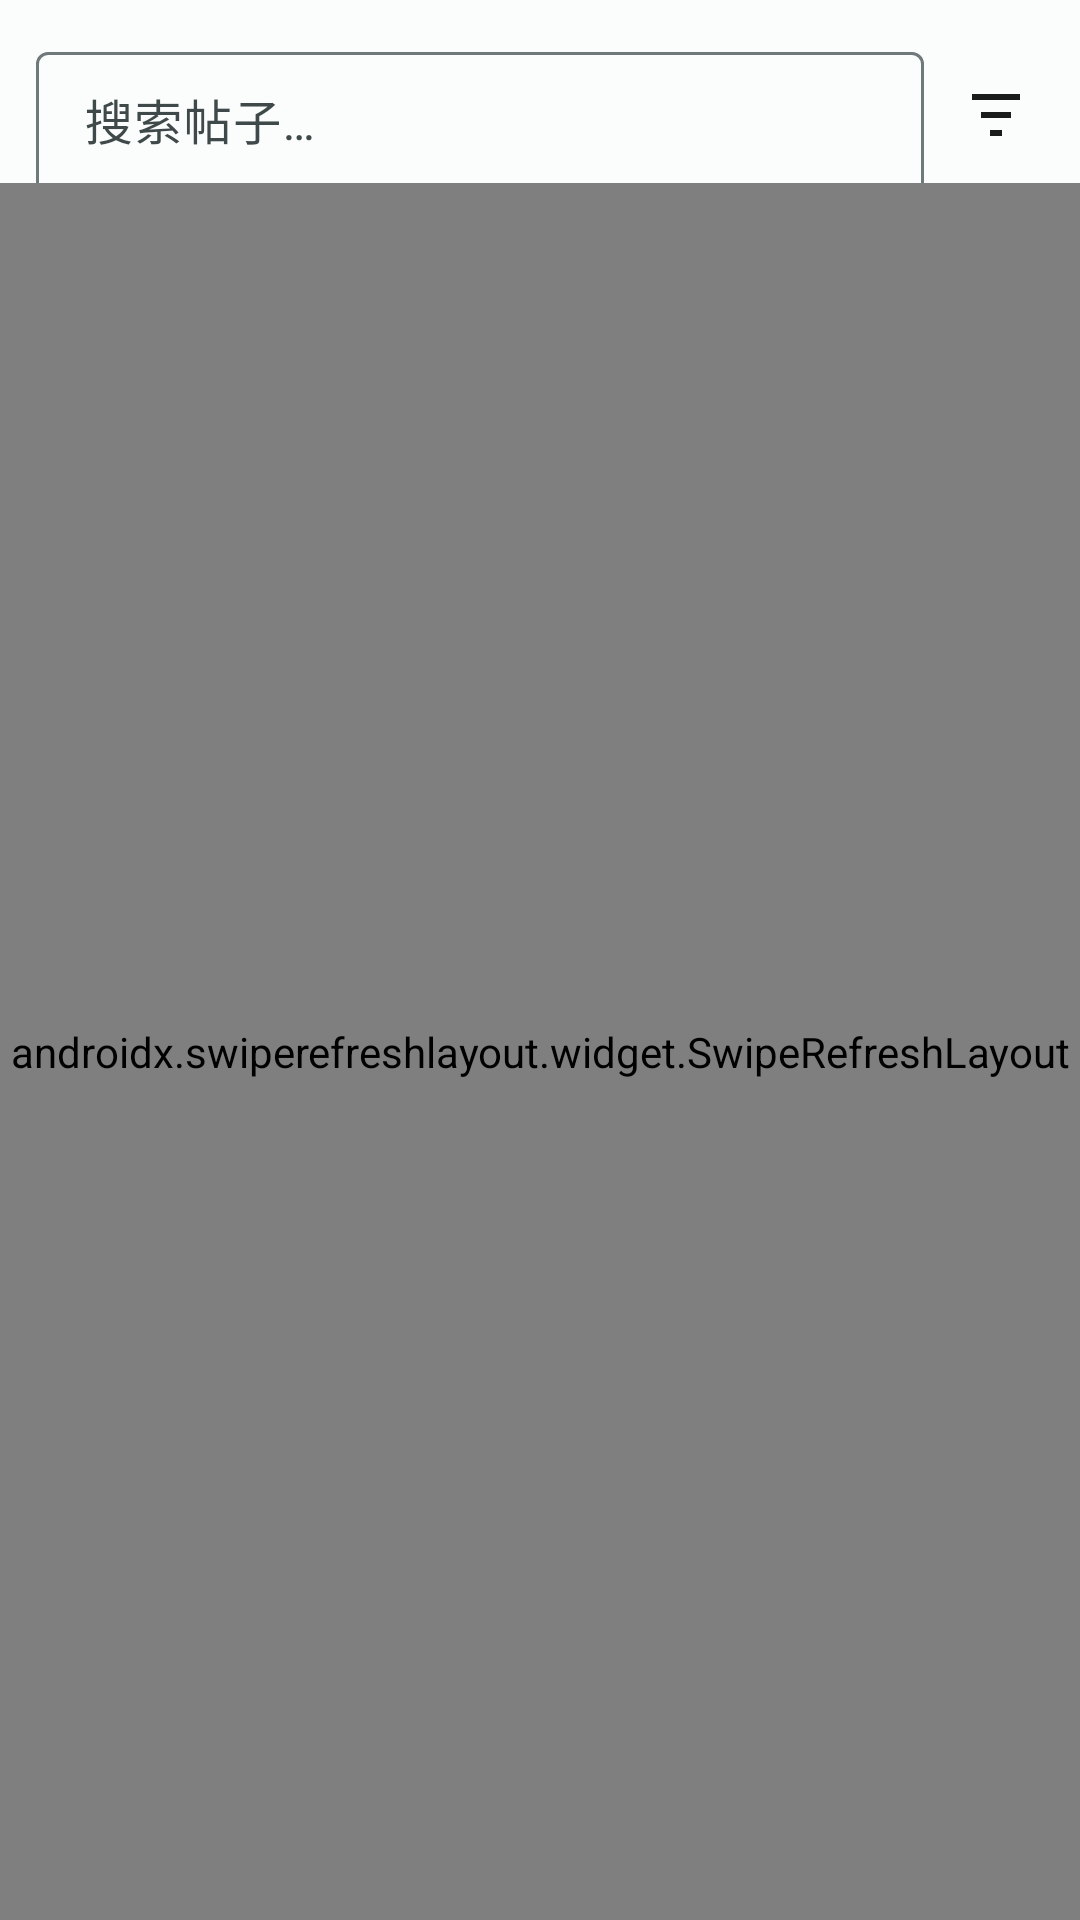

Point at icon controls on the screen. Image size 1080 × 1920, points as (x,y).
筛选: (996,115)
